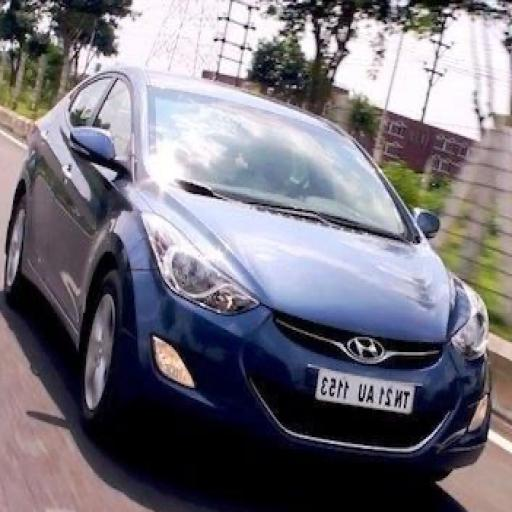License: (307, 366, 416, 418)
